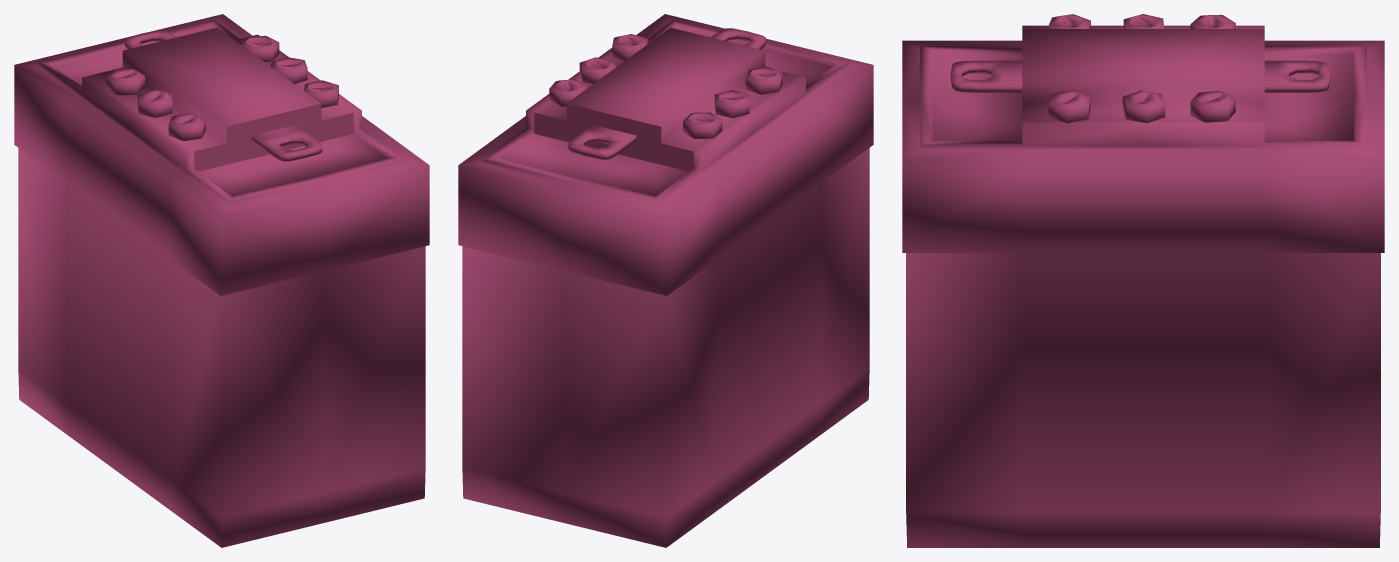
Rendered from Battery_Model_3.fbx.
3 views of the same model, side by side, from view 1: azimuth 30°, elevation 25°; view 2: azimuth 150°, elevation 25°; view 3: azimuth 270°, elevation 25° (orthographic). The views are drawn at different scales.
Visible parts, largest first — view 1: Bat3; view 2: Bat3; view 3: Bat3.
Boxes of the visible parts, x1=… form: Bat3: x1=14, y1=14, x2=429, y2=547; Bat3: x1=458, y1=14, x2=873, y2=547; Bat3: x1=902, y1=14, x2=1384, y2=547.
Bounding box in the file's own units: 204 × 348 × 351.
